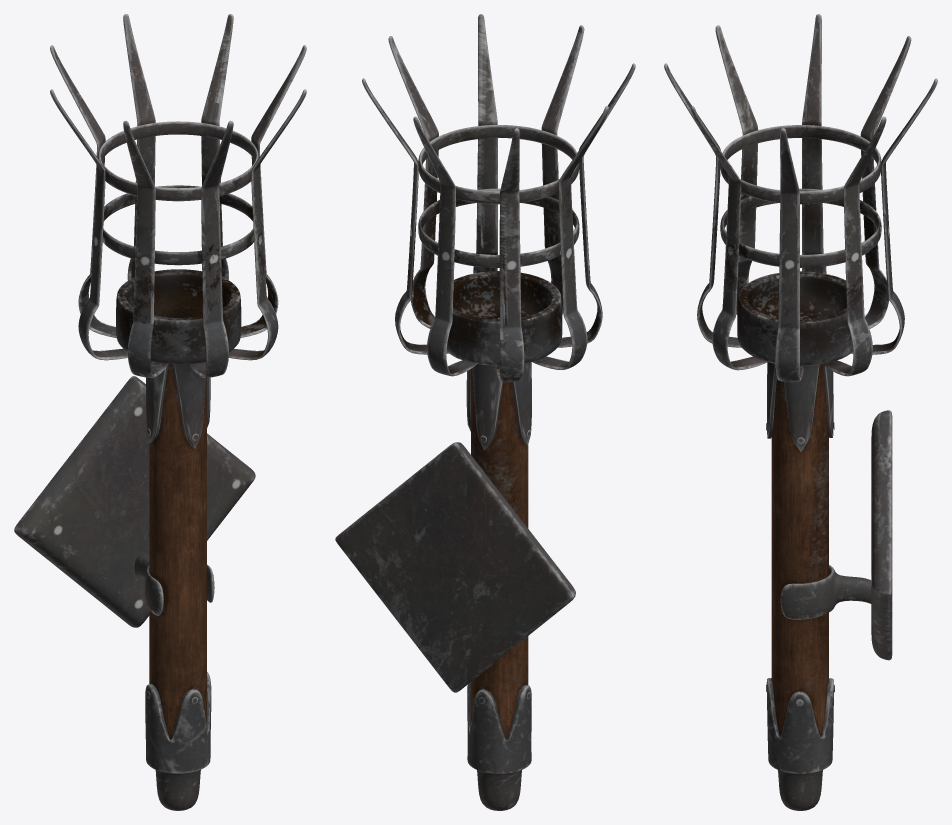
Rendered from light_fixture_substance.fbx.
3 renders of one model, left to right at view 1: azimuth 30°, elevation 25°; view 2: azimuth 150°, elevation 25°; view 3: azimuth 270°, elevation 25°, orthographic.
Parts seen in each view (by area): view 1: cage, wallMount, handle, fire_thing, bottomPiece, handle_spike_geo, holder, handle_spike_geo1; view 2: wallMount, cage, fire_thing, handle, bottomPiece, handle_spike_geo1 (×2); view 3: cage, handle, fire_thing, bottomPiece, wallMount, holder, handle_spike_geo (×2), handle_spike_geo1.
Boxes of the visible parts, x1,y1,x2,y2 form: cage: (50,14,306,377); wallMount: (14,376,255,627); handle: (149,364,206,739); fire_thing: (116,269,241,364); bottomPiece: (145,672,211,810); handle_spike_geo: (172,364,205,448); holder: (134,554,214,615); handle_spike_geo1: (146,361,168,443); wallMount: (335,442,575,692); cage: (362,14,635,382); fire_thing: (446,271,562,365); handle: (471,368,528,739); bottomPiece: (467,682,531,810); handle_spike_geo1 (×2): (472,362,531,450); cage: (664,14,937,382); handle: (771,364,828,736); fire_thing: (737,271,853,365); bottomPiece: (766,678,834,810); wallMount: (871,410,892,660); holder: (780,565,871,619); handle_spike_geo (×2): (767,362,819,451); handle_spike_geo1: (823,365,833,437).
Size of the model in its own units: 3.39 by 10.02 by 3.38.
Materials: 1 (1 with a texture image).
